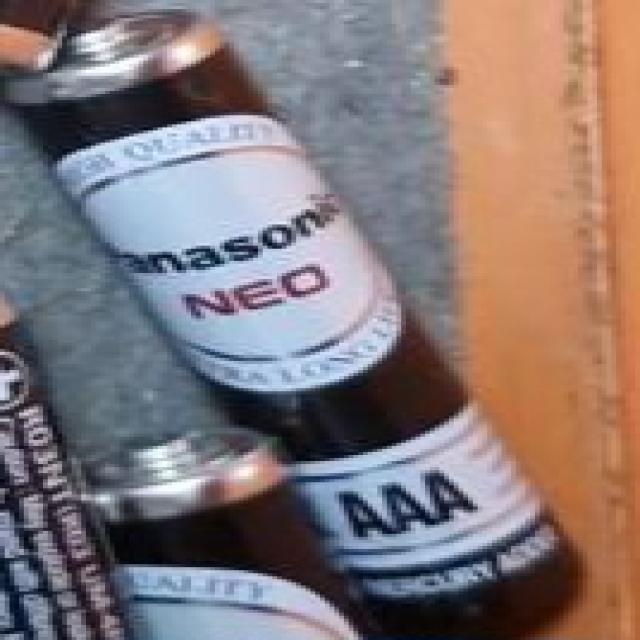battery: (38, 0, 640, 635)
